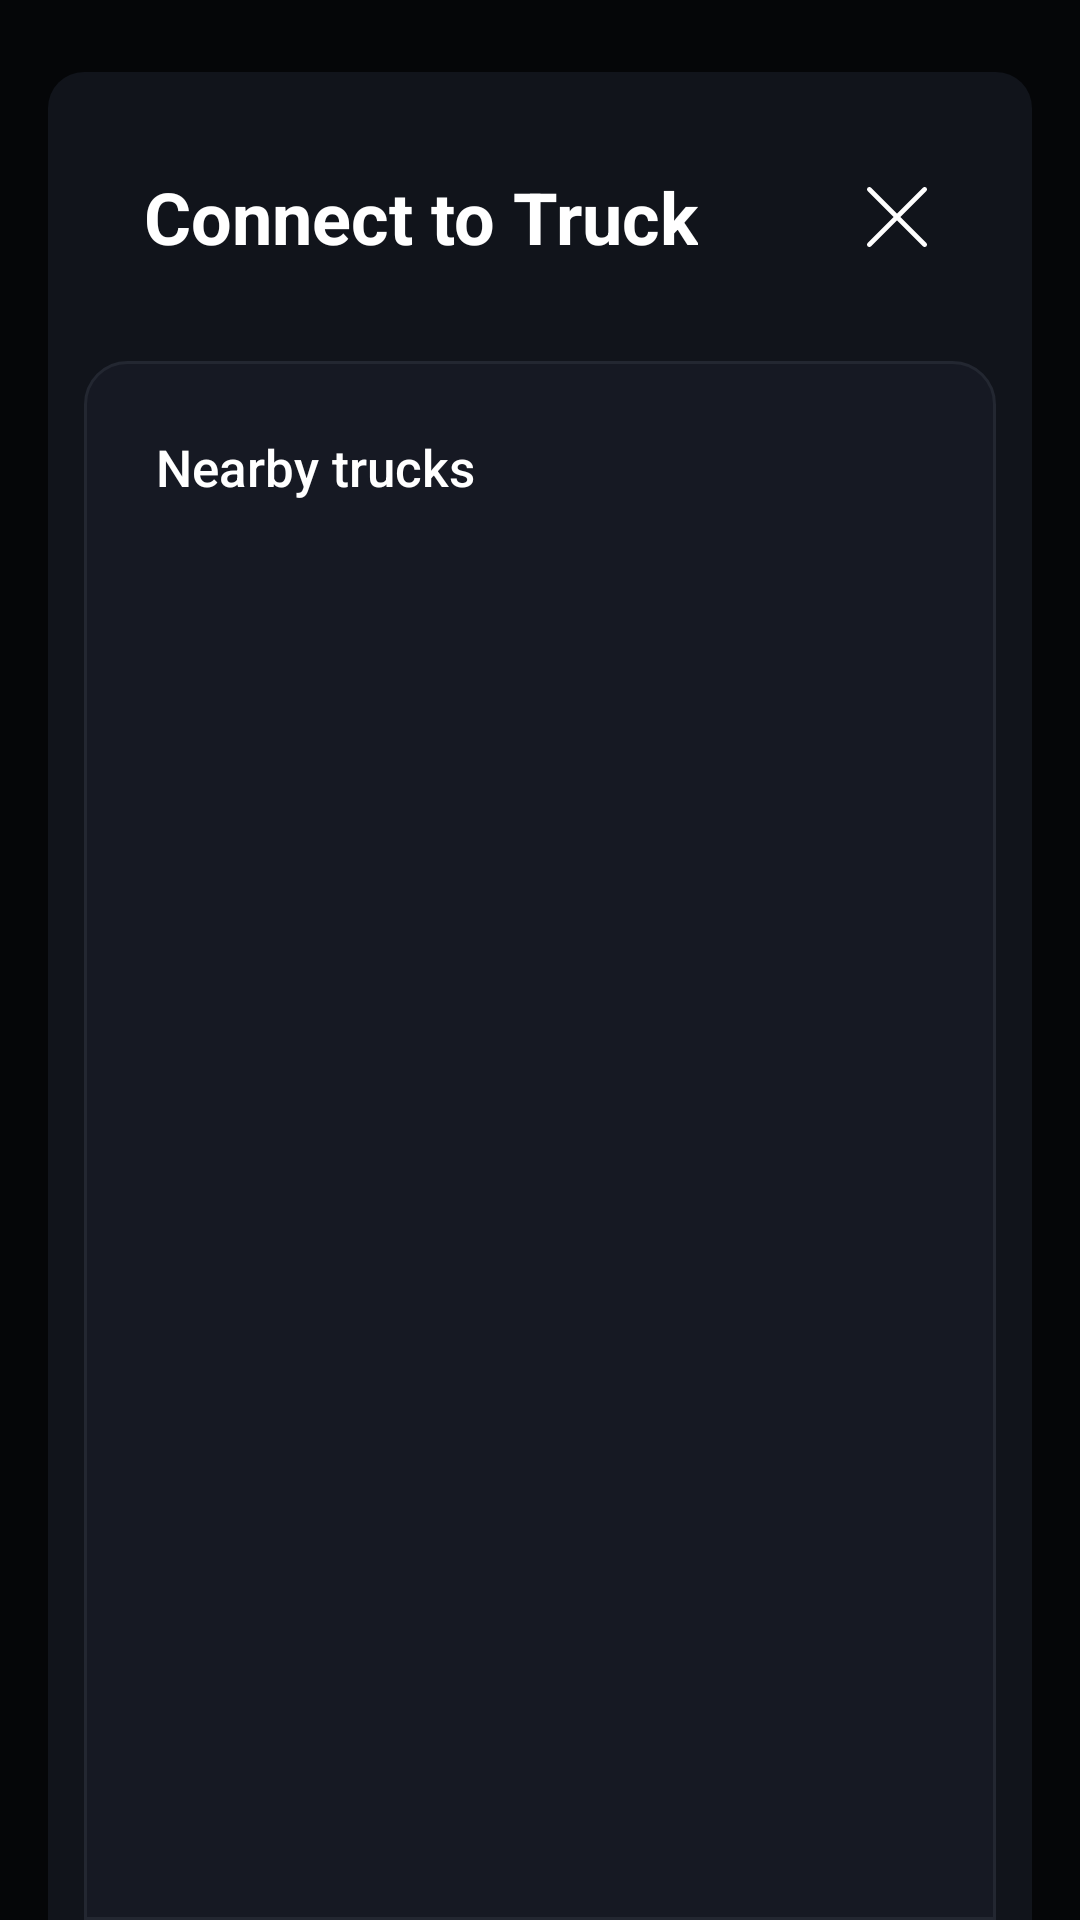

Icon bounding boxes for this 1080 x 1920 phone screenshot, format (x1, y1, x2, y2):
close: (867, 187, 927, 247)
